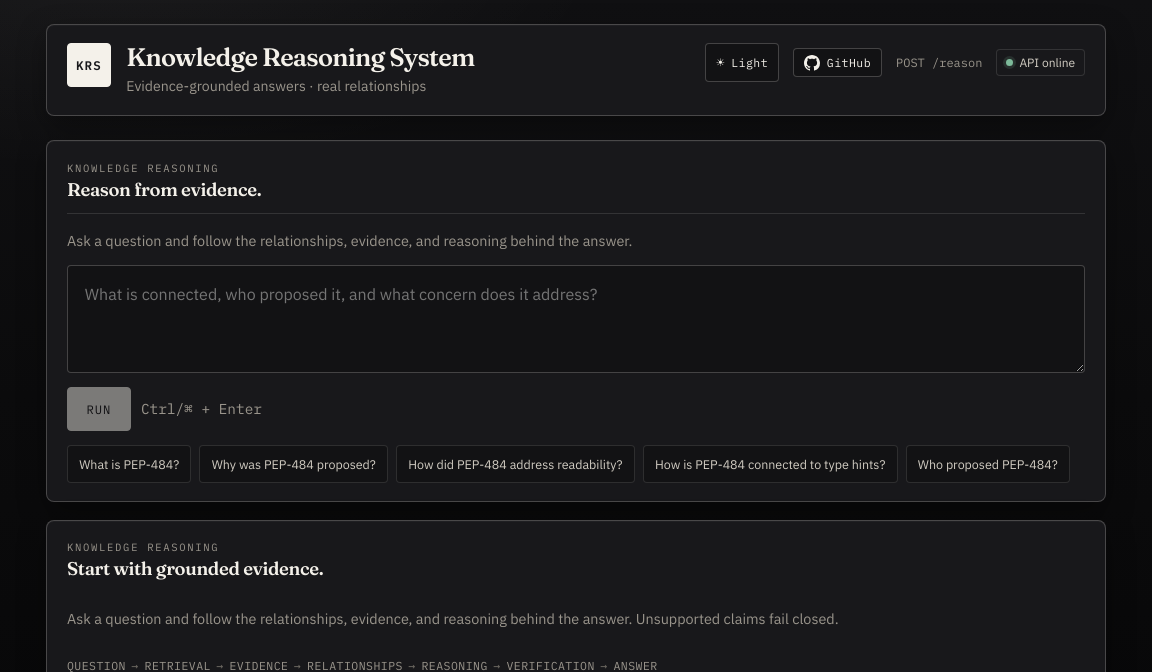
Knowledge Reasoning Web UI › I: fail-closed state
This screenshot has width=1152, height=672.
Replace the text in the text box named "Reasoning query" with "Who proposed PEP-999?" at (576, 319), box x1=67 y1=265 x2=1085 y2=373
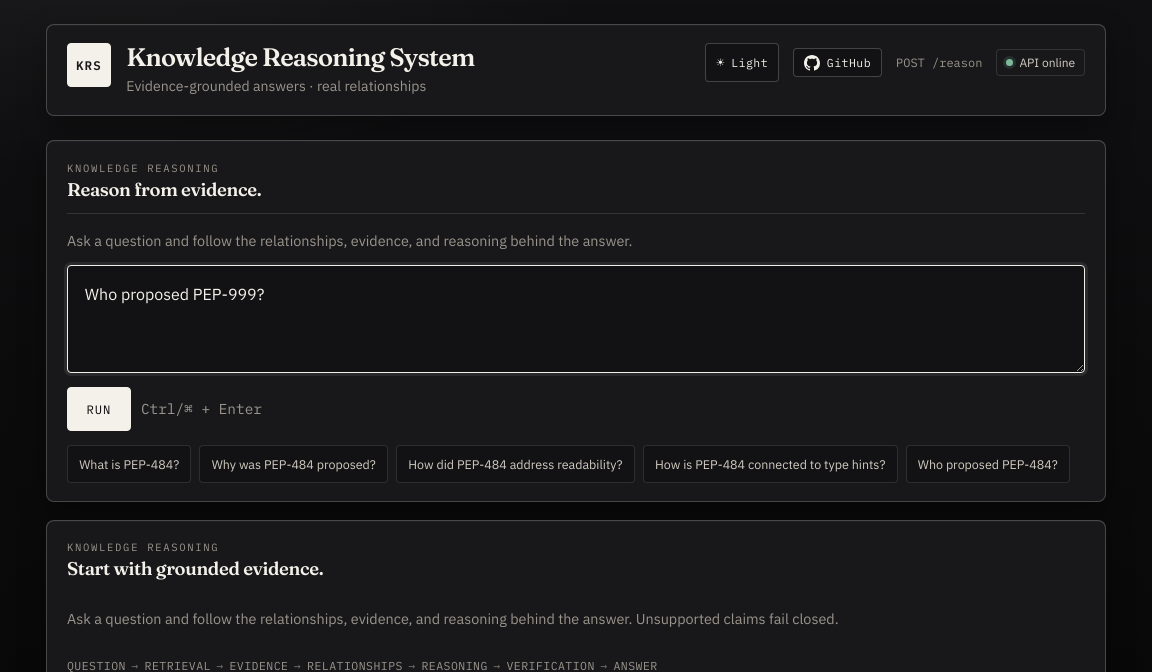
Click the button "Run" at (99, 409), box x1=67 y1=387 x2=131 y2=431
(page scrolled)
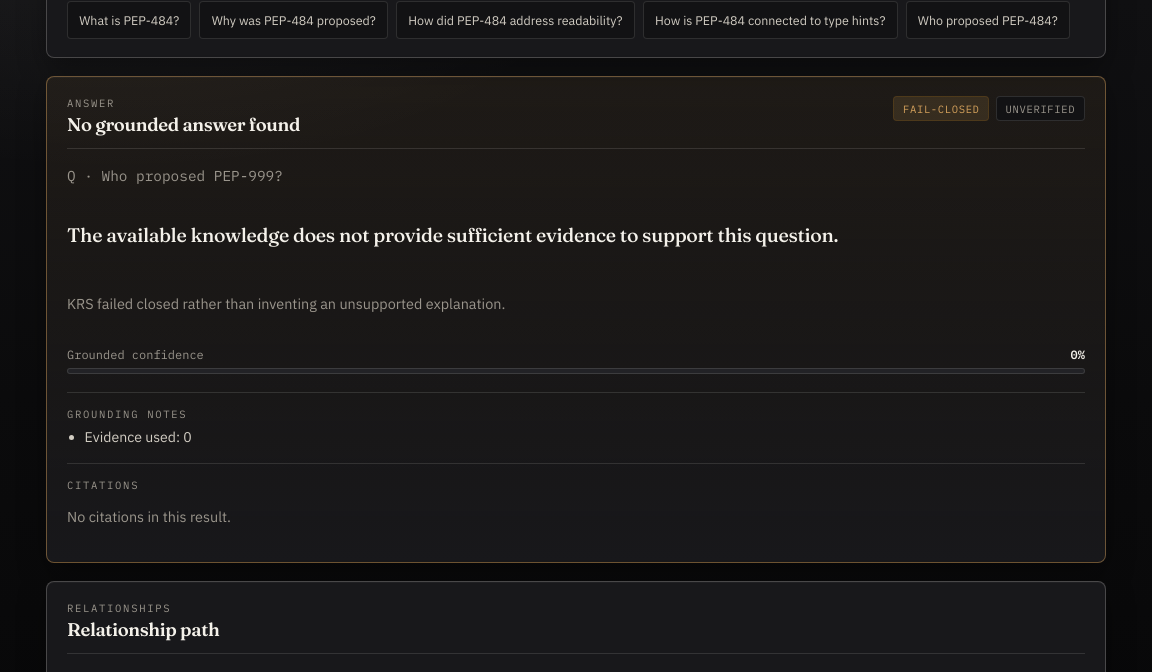
Expected: the heading "No grounded answer found" is shown, x1=67 y1=113 x2=300 y2=136
Expected: the text "does not provide sufficient evidence" is shown, x1=67 y1=223 x2=838 y2=247
Expected: the text "Fail-closed" is shown, x1=893 y1=96 x2=989 y2=121
